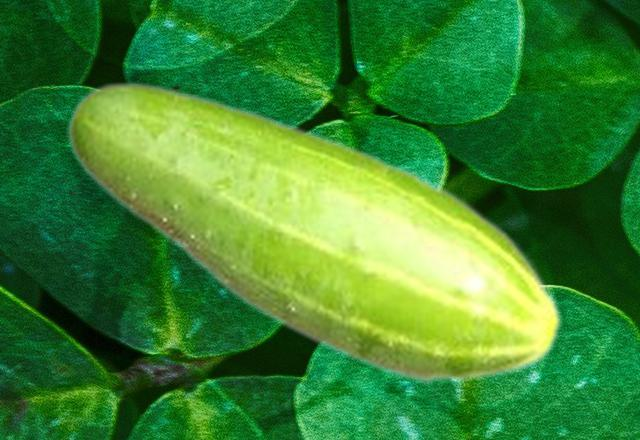cucumber: (66, 80, 563, 386)
